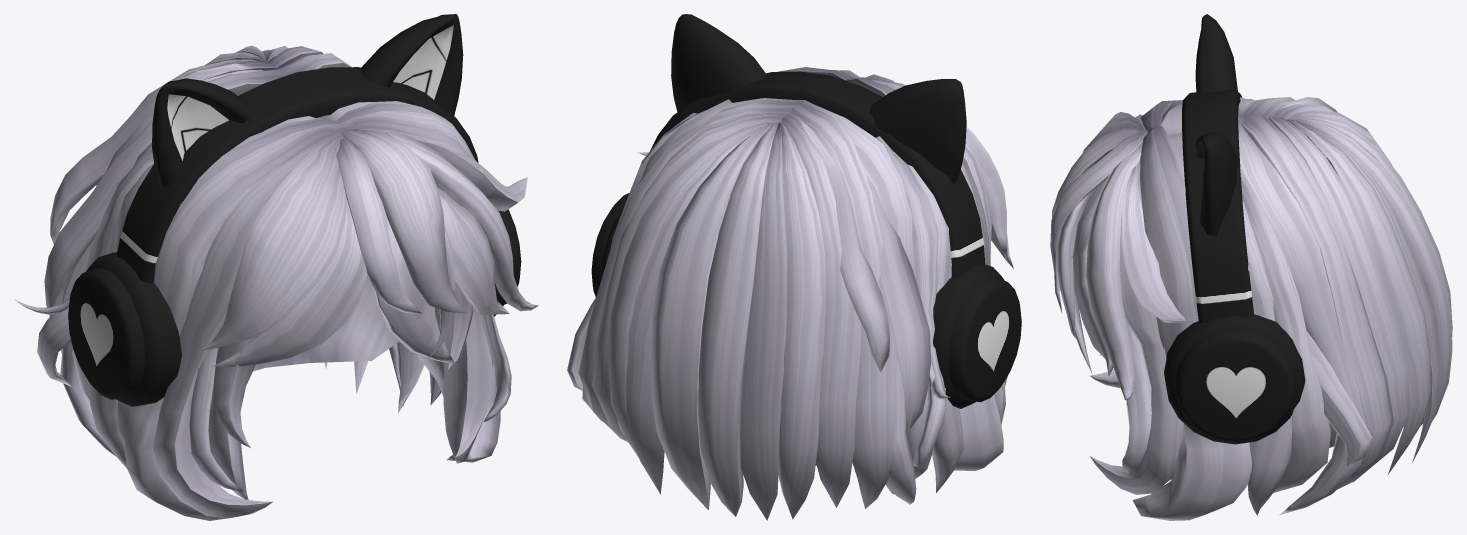
File: Girl_Hair_05.fbx
3 views of the same model, side by side, from view 1: azimuth 30°, elevation 25°; view 2: azimuth 150°, elevation 25°; view 3: azimuth 270°, elevation 25° (orthographic). The views are drawn at different scales.
Visible parts, largest first — view 1: Hair, Headphone; view 2: Hair, Headphone; view 3: Hair, Headphone.
Part boxes in pixels (bbox=[...]): Hair: bbox=[15, 45, 538, 520]; Headphone: bbox=[68, 14, 521, 406]; Hair: bbox=[567, 67, 1013, 520]; Headphone: bbox=[591, 14, 1021, 408]; Hair: bbox=[1050, 97, 1452, 520]; Headphone: bbox=[1164, 14, 1305, 444].
Size of the model in its own units: 35.07 by 33.38 by 32.09.
